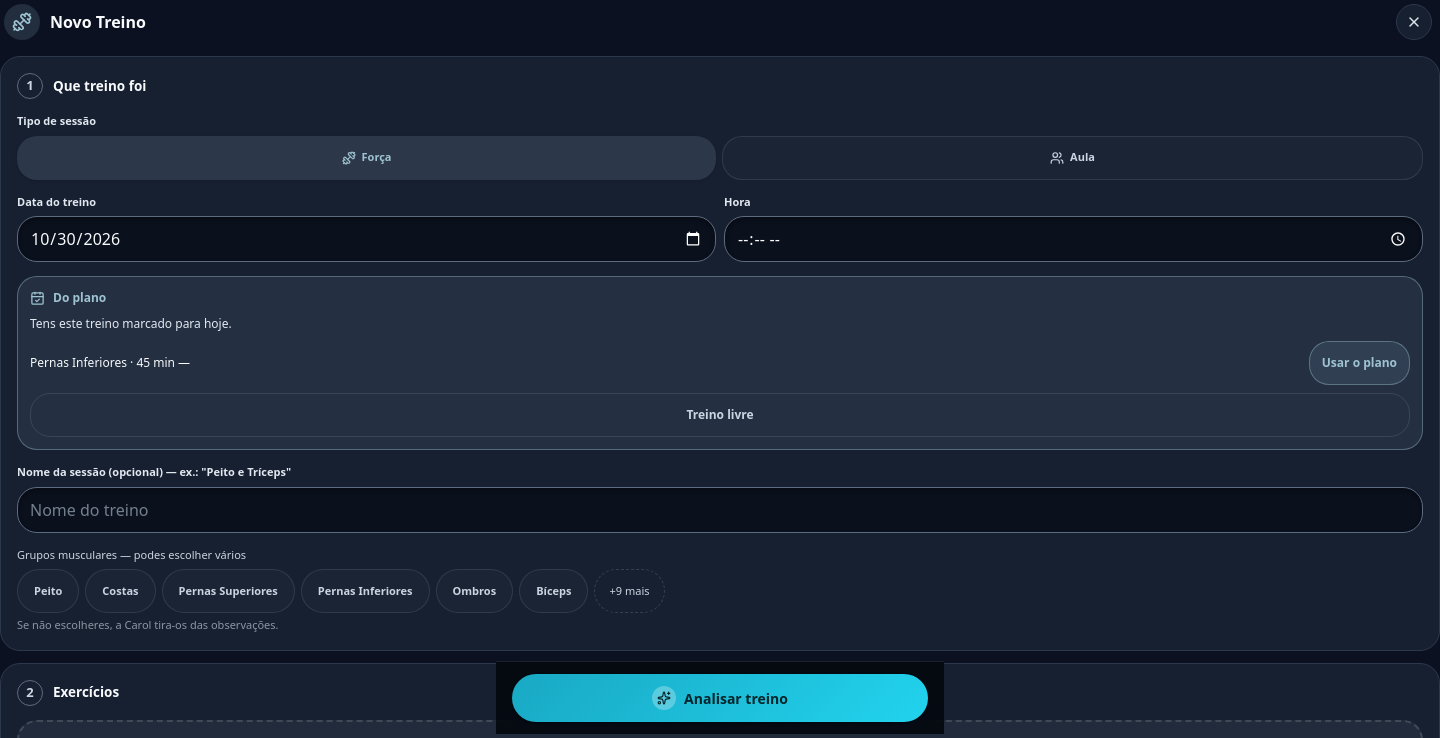
GymRegistration — pré-preenchimento pelo plano (F3) › "Mudar" volta a mostrar a escolha
Click the button "Treino livre". click: (720, 415)
box: [30,393,1410,437]
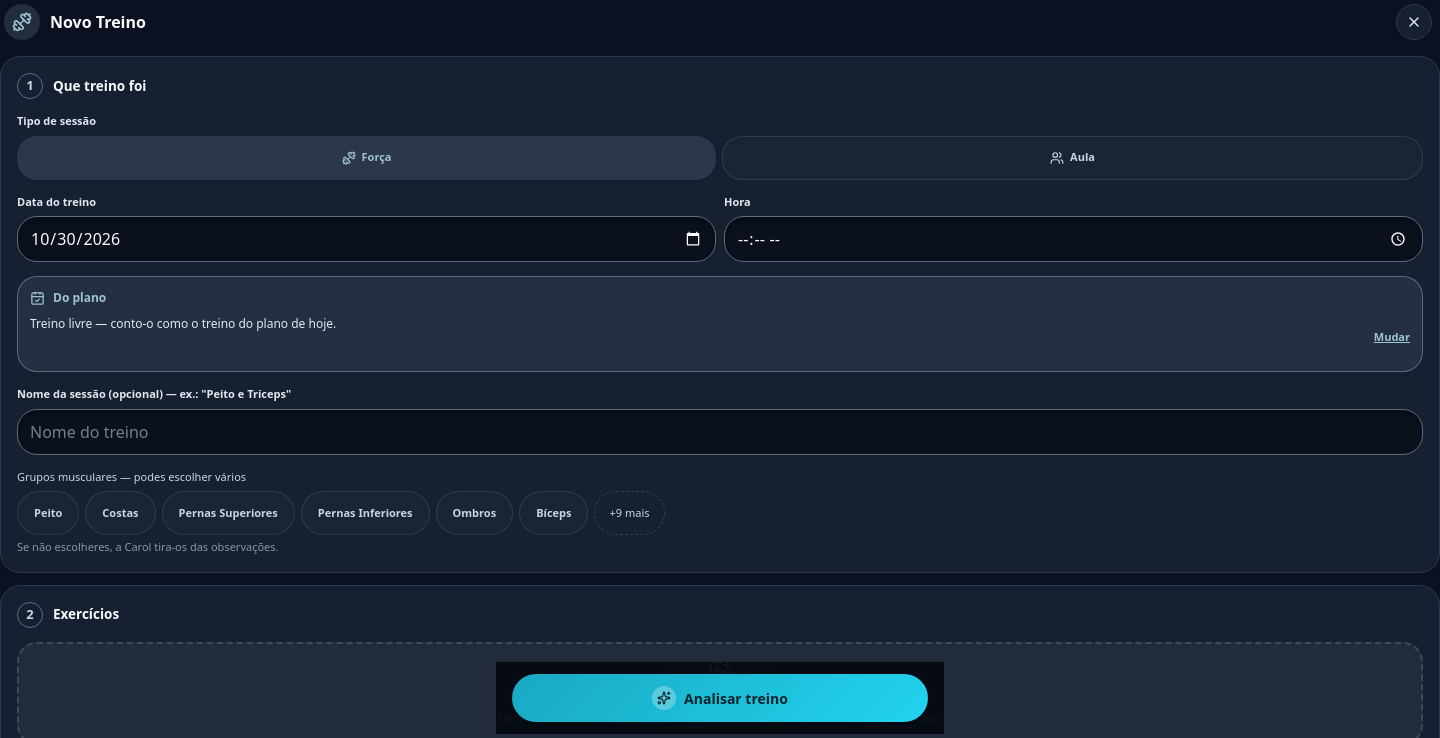
Click the button "Mudar". click: (1392, 337)
box: [1374,315,1410,359]
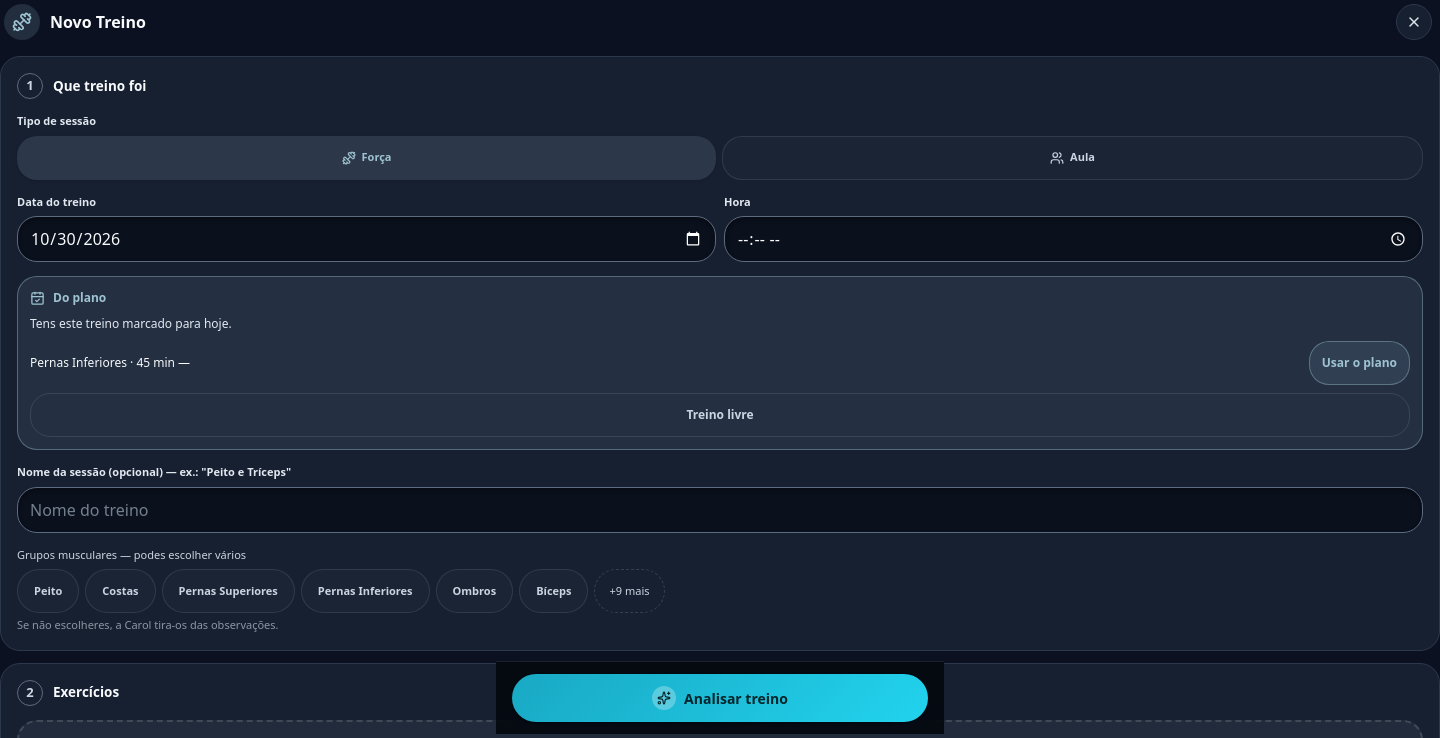
Now the button "Usar o plano" is shown, box [1309,341,1410,385]
